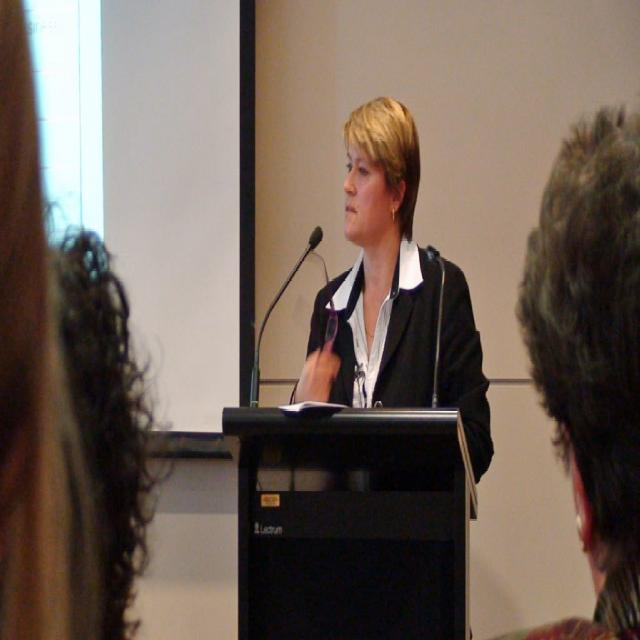desk: (225, 378, 488, 630)
laptop: (228, 406, 470, 634)
person: (1, 4, 152, 624), (287, 94, 493, 507), (514, 104, 639, 636)
